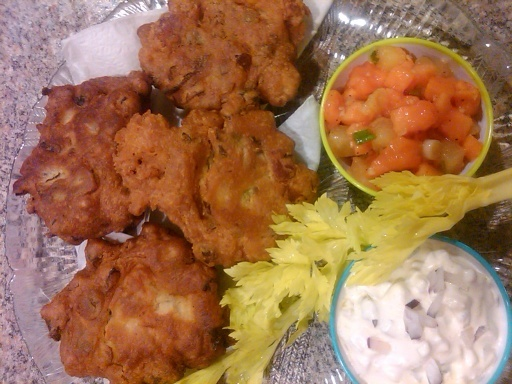background: (10, 0, 409, 230)
